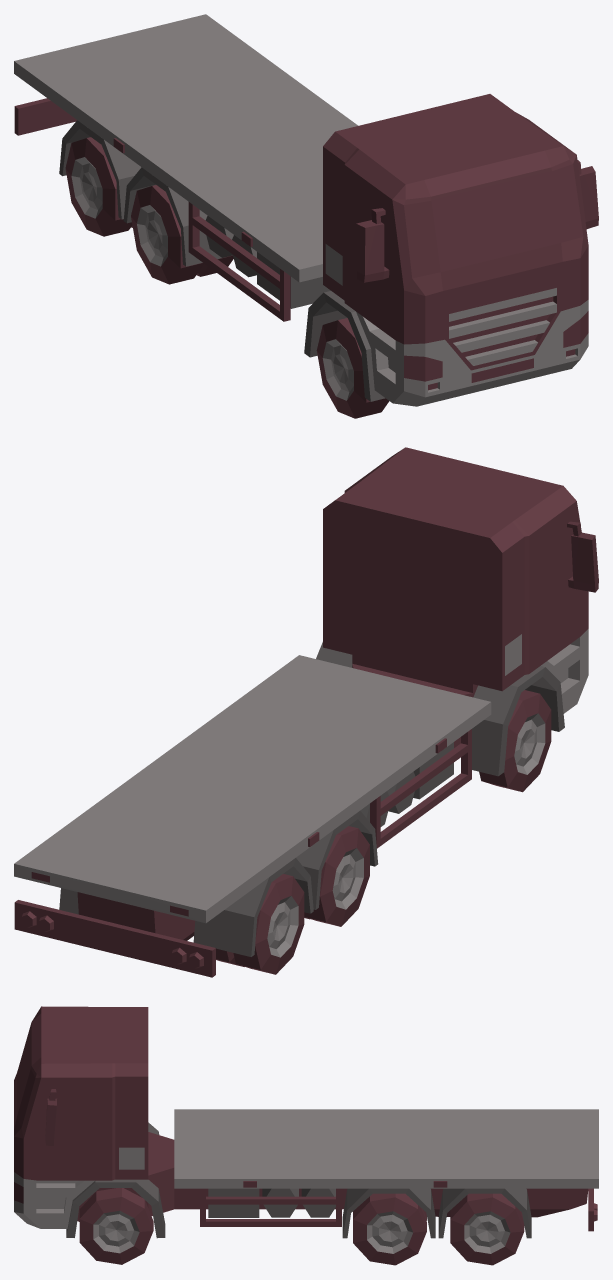
Rendered from car-truck-flatbed.fbx.
The picture shows the model from 3 angles, top to bottom: view 1: azimuth 30°, elevation 25°; view 2: azimuth 150°, elevation 25°; view 3: azimuth 270°, elevation 25°; orthographic projection. The views are drawn at different scales.
Visible parts, largest first — view 1: car-truck-flatbed-base, car-truck-flatbed-wheel_BR1, car-truck-flatbed-wheel_BR2, car-truck-flatbed-wheel_FR; view 2: car-truck-flatbed-base, car-truck-flatbed-wheel_BR2, car-truck-flatbed-wheel_BR1, car-truck-flatbed-wheel_FR; view 3: car-truck-flatbed-base, car-truck-flatbed-wheel_FL, car-truck-flatbed-wheel_BL1, car-truck-flatbed-wheel_BL2.
Part boxes in pixels (bbox=[...]): car-truck-flatbed-base: bbox=[14, 14, 598, 406]; car-truck-flatbed-wheel_BR1: bbox=[131, 185, 233, 284]; car-truck-flatbed-wheel_BR2: bbox=[65, 137, 132, 236]; car-truck-flatbed-wheel_FR: bbox=[316, 318, 389, 418]; car-truck-flatbed-base: bbox=[14, 447, 598, 977]; car-truck-flatbed-wheel_BR2: bbox=[216, 874, 304, 974]; car-truck-flatbed-wheel_BR1: bbox=[304, 826, 369, 926]; car-truck-flatbed-wheel_FR: bbox=[479, 690, 551, 792]; car-truck-flatbed-base: bbox=[14, 1006, 598, 1238]; car-truck-flatbed-wheel_FL: bbox=[79, 1188, 153, 1264]; car-truck-flatbed-wheel_BL1: bbox=[353, 1193, 426, 1265]; car-truck-flatbed-wheel_BL2: bbox=[450, 1193, 524, 1265].
Bounding box in the file's own units: 2.99 × 3.16 × 8.53.
